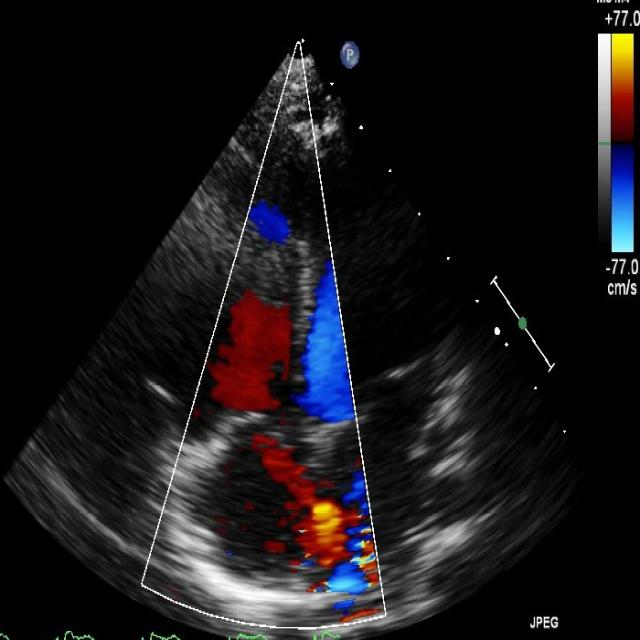ASDType2: (250, 423, 376, 582)
